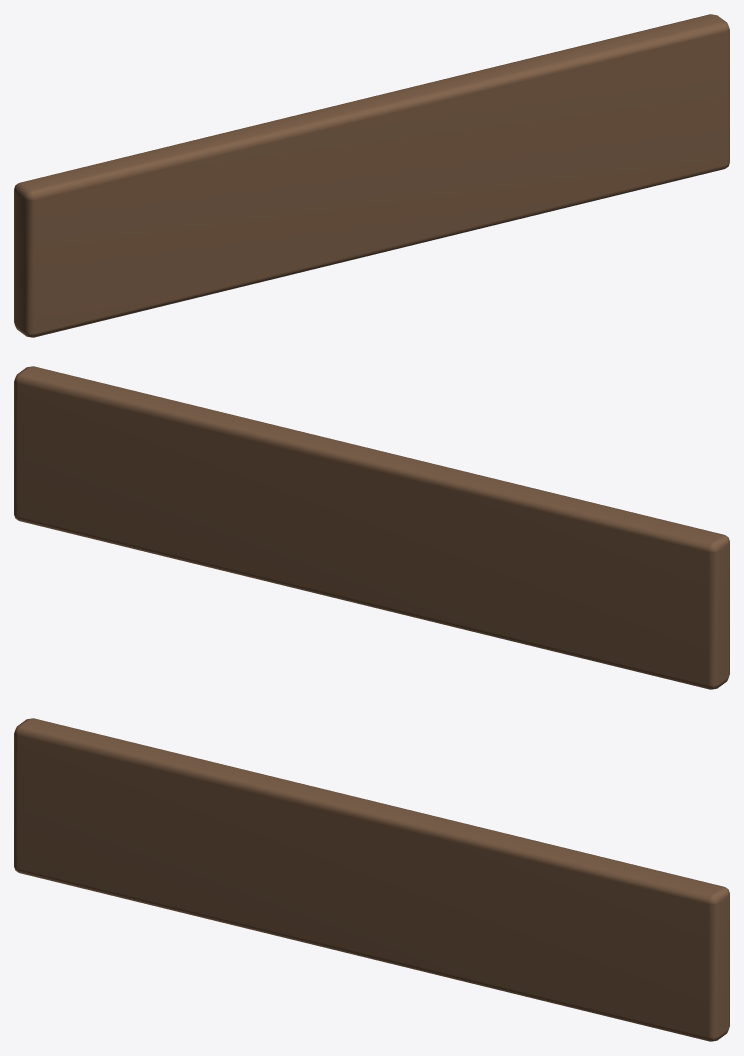
The model's file is lp_drawer_front.glb.
3 views of the same model, one above another, from view 1: azimuth 30°, elevation 25°; view 2: azimuth 150°, elevation 25°; view 3: azimuth 330°, elevation 25° (orthographic).
Visible parts, largest first — view 1: lp_drawer_front; view 2: lp_drawer_front; view 3: lp_drawer_front.
Boxes of the visible parts, x1,y1,x2,y2 form: lp_drawer_front: [14, 14, 729, 337]; lp_drawer_front: [14, 366, 729, 689]; lp_drawer_front: [14, 718, 729, 1041].
Size of the model in its own units: 0.5 by 0.1 by 0.022.
